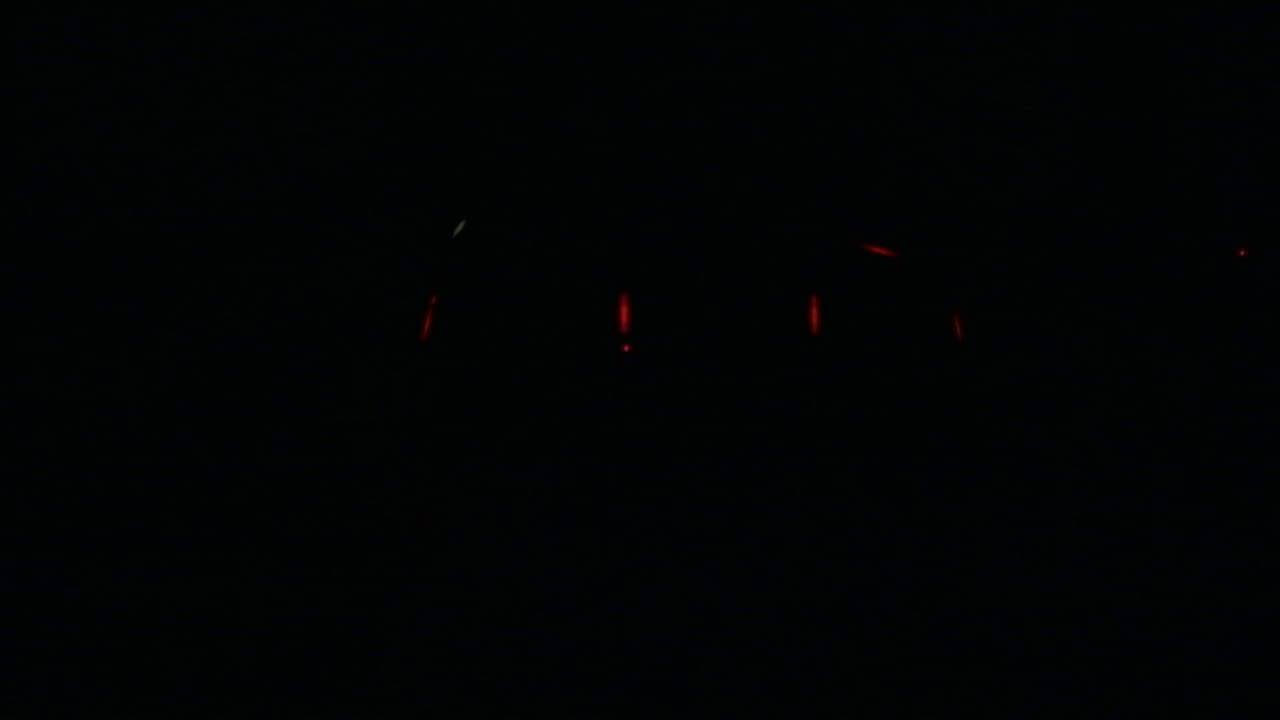lamp: (415, 292, 437, 341), (613, 291, 635, 338), (809, 289, 820, 338)
notpair2: (416, 292, 638, 344)
pair2: (613, 288, 822, 341)
